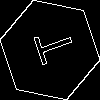T: (25, 25, 76, 69)
